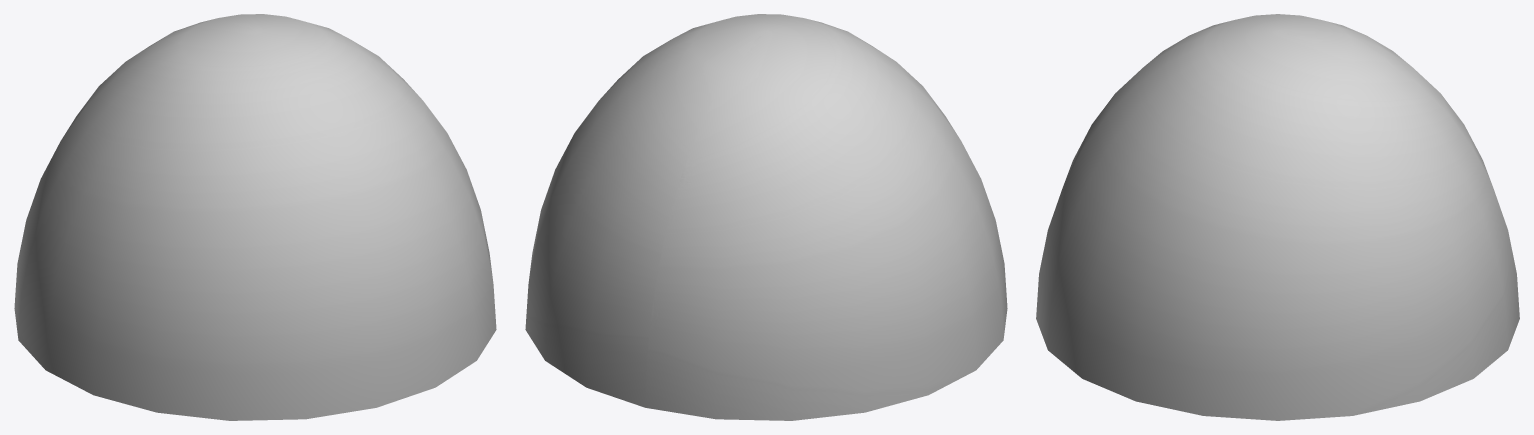
Rendered from Final_lamp 10_22.fbx.
3 renders of one model, left to right at view 1: azimuth 30°, elevation 25°; view 2: azimuth 150°, elevation 25°; view 3: azimuth 270°, elevation 25°, orthographic.
Visible parts, largest first — view 1: polySurface125; view 2: polySurface125; view 3: polySurface125.
Boxes of the visible parts, x1,y1,x2,y2 form: polySurface125: [14, 14, 496, 420]; polySurface125: [525, 14, 1007, 420]; polySurface125: [1036, 14, 1519, 420].
Bounding box in the file's own units: 0.0403 × 0.0264 × 0.0403.
1 material, 1 textured.
